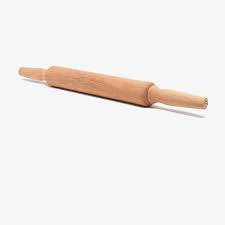straight_bar: (7, 58, 212, 121)
